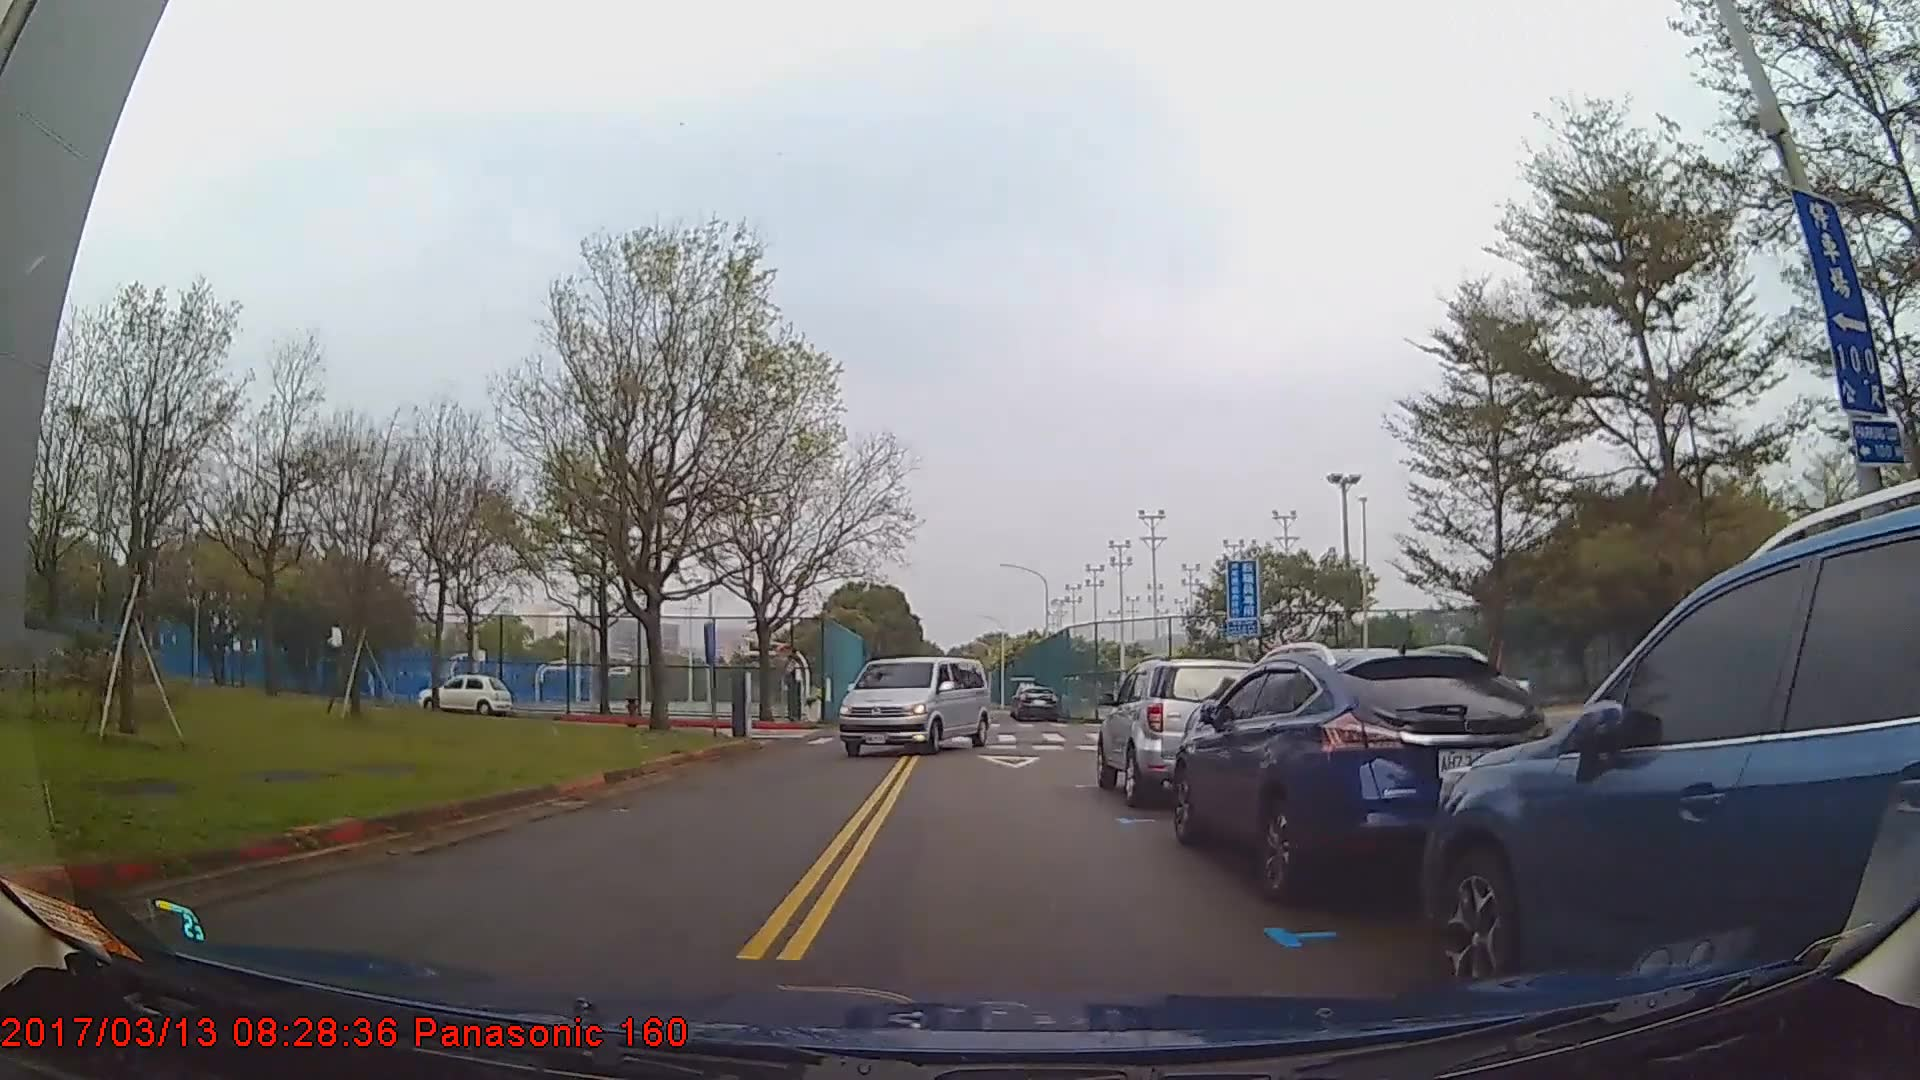vehicle: (1419, 510, 1917, 1015), (1171, 644, 1553, 903), (1095, 657, 1267, 804), (836, 651, 992, 756), (419, 671, 512, 713), (1014, 679, 1060, 719)
